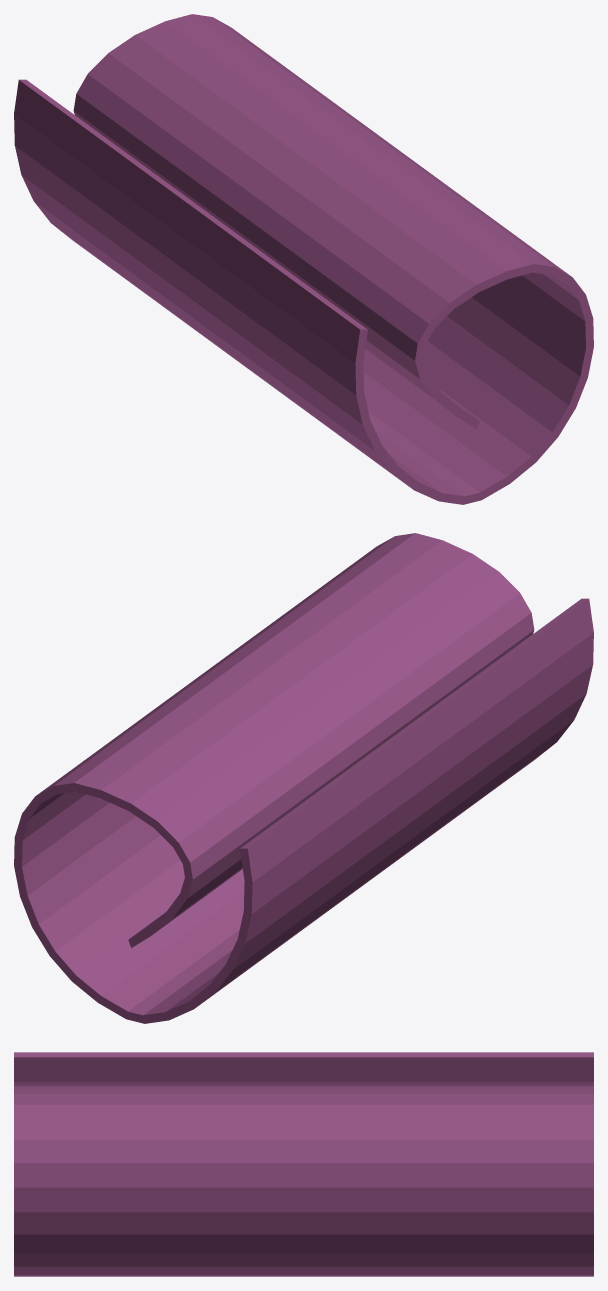
The model's file is Yoga.fbx.
The picture shows the model from 3 angles, top to bottom: view 1: azimuth 30°, elevation 25°; view 2: azimuth 150°, elevation 25°; view 3: azimuth 270°, elevation 25°; orthographic projection. The views are drawn at different scales.
Visible parts, largest first — view 1: Plane; view 2: Plane; view 3: Plane.
Part boxes in pixels (x1,y1,x2,y2): Plane: [14, 14, 593, 504]; Plane: [14, 533, 593, 1023]; Plane: [14, 1052, 593, 1276].
Bounding box in the file's own units: 68.26 × 61.18 × 169.
